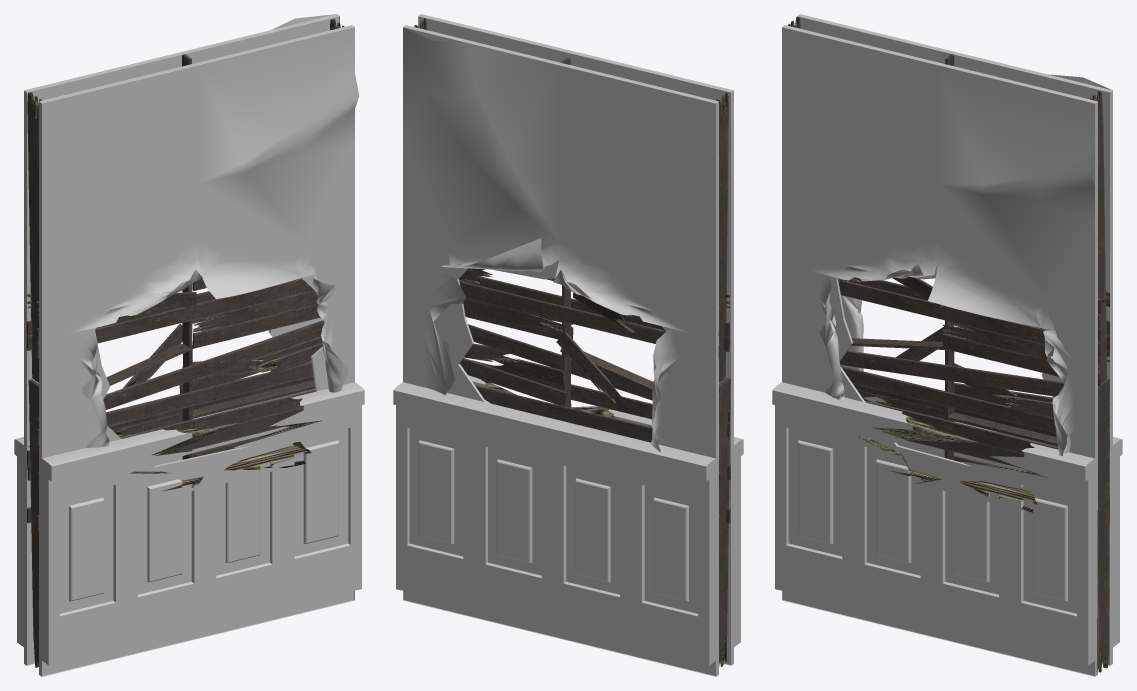
Rendered from SM_Wall200B_DS.FBX.
The picture shows the model from 3 angles, left to right: view 1: azimuth 30°, elevation 25°; view 2: azimuth 150°, elevation 25°; view 3: azimuth 330°, elevation 25°; orthographic projection.
Visible parts, largest first — view 1: SM_Wall200B_DS_LOD0; view 2: SM_Wall200B_DS_LOD0; view 3: SM_Wall200B_DS_LOD0.
Boxes of the visible parts, bbox=[...] form: SM_Wall200B_DS_LOD0: bbox=[14, 14, 364, 676]; SM_Wall200B_DS_LOD0: bbox=[393, 14, 743, 676]; SM_Wall200B_DS_LOD0: bbox=[772, 14, 1122, 676].
Size of what is drawn, in the model's own units: 200 by 350 by 49.9.
